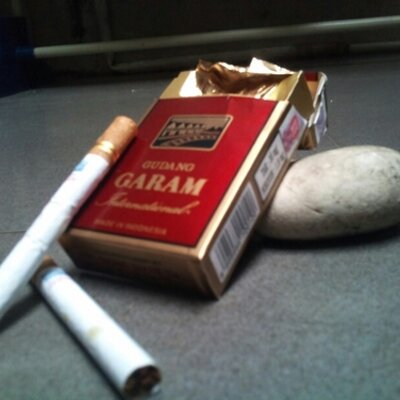garam filter: (59, 42, 340, 313)
